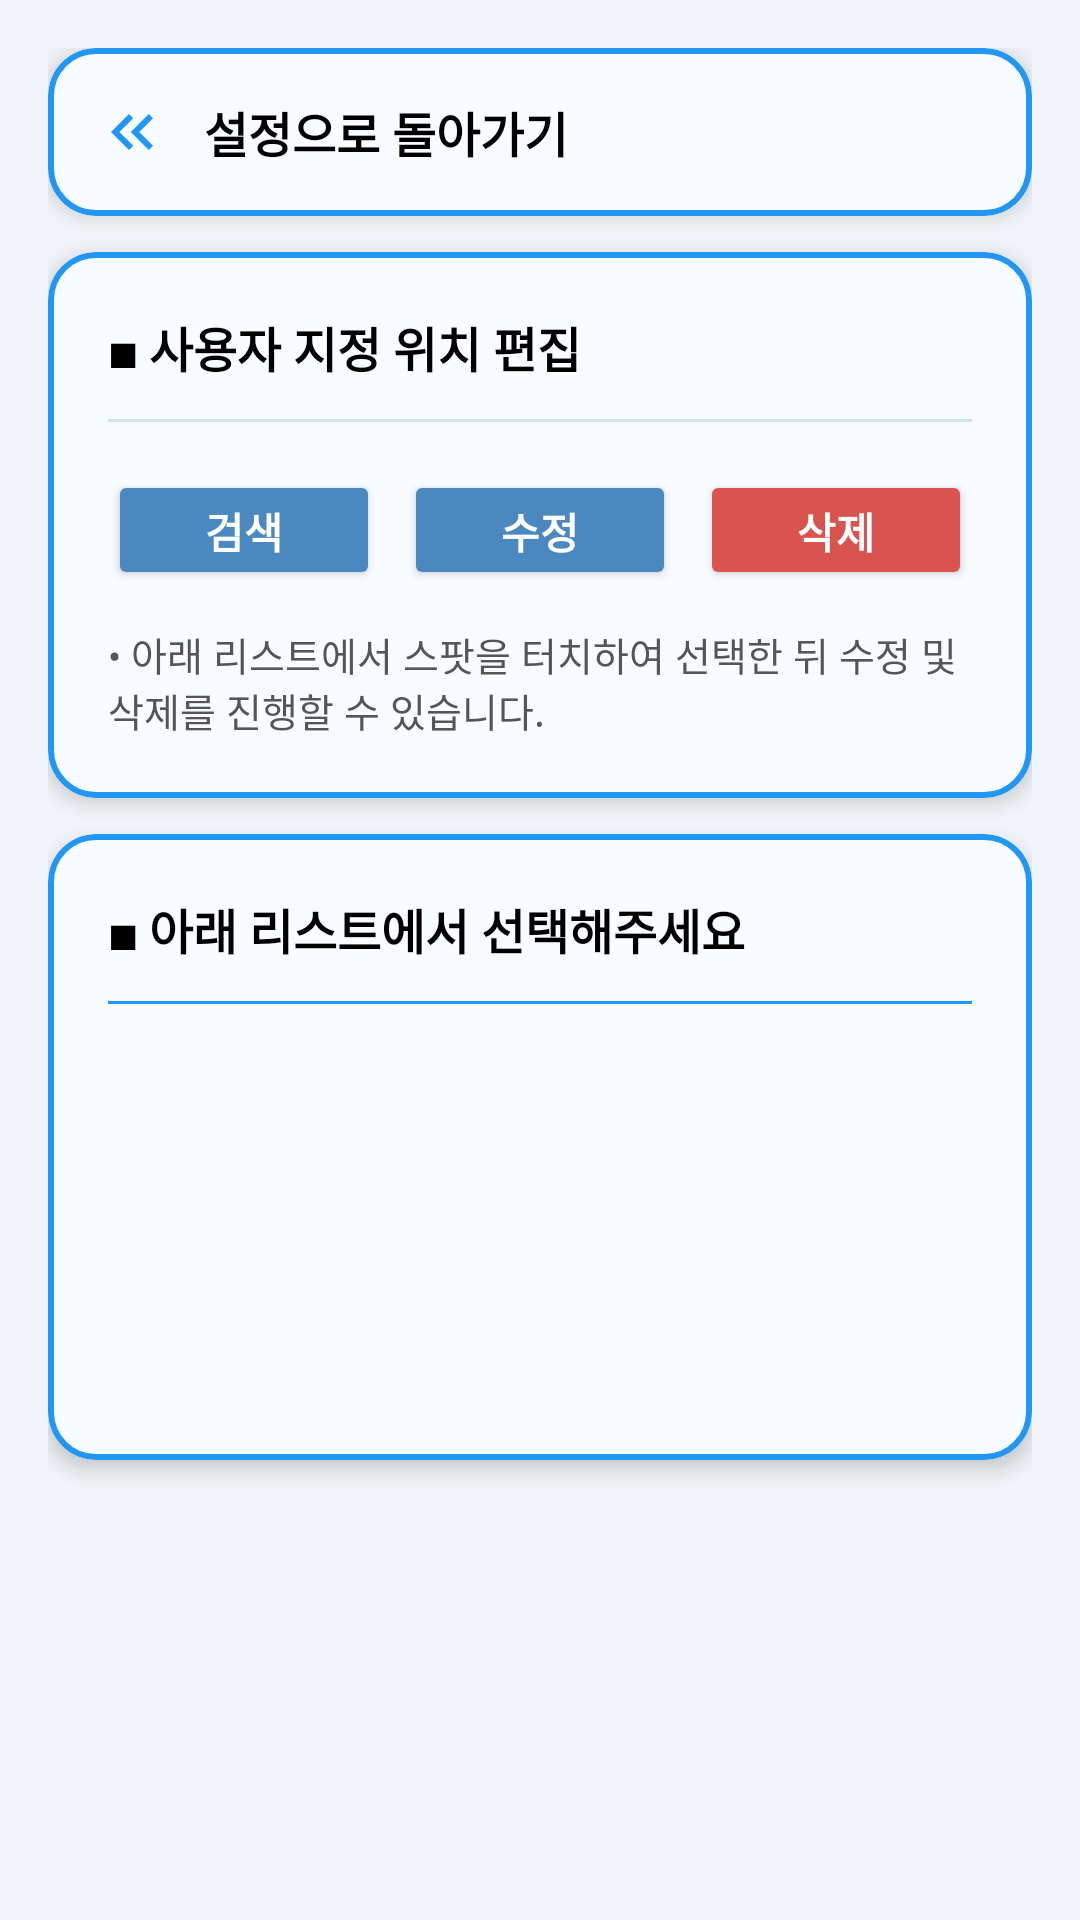

Icon click points for this 1080 × 1920 phone screenshot, format point (x, y):
돌아가기 아이콘: point (132, 132)
